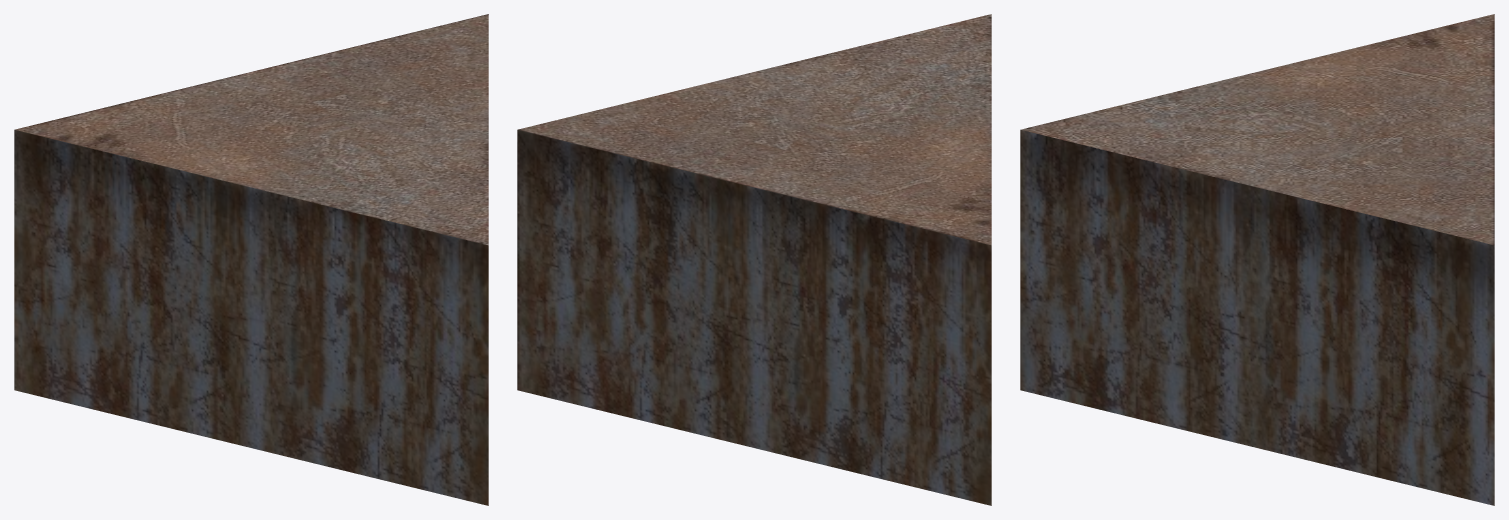
File: metal_foundation_triangle_mid_textured.glb
3 renders of one model, left to right at view 1: azimuth 30°, elevation 25°; view 2: azimuth 150°, elevation 25°; view 3: azimuth 270°, elevation 25°, orthographic.
Visible parts, largest first — view 1: Circle; view 2: Circle; view 3: Circle.
Part boxes in pixels (bbox=[...]): Circle: bbox=[14, 14, 488, 505]; Circle: bbox=[517, 14, 991, 505]; Circle: bbox=[1020, 14, 1494, 505].
Bounding box in the file's own units: 2 × 1.05 × 1.73.
Materials: 1 (1 with a texture image).
